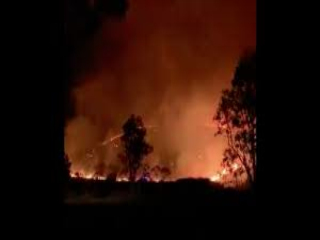fire: (199, 161, 245, 190)
smoke: (75, 47, 243, 159)
